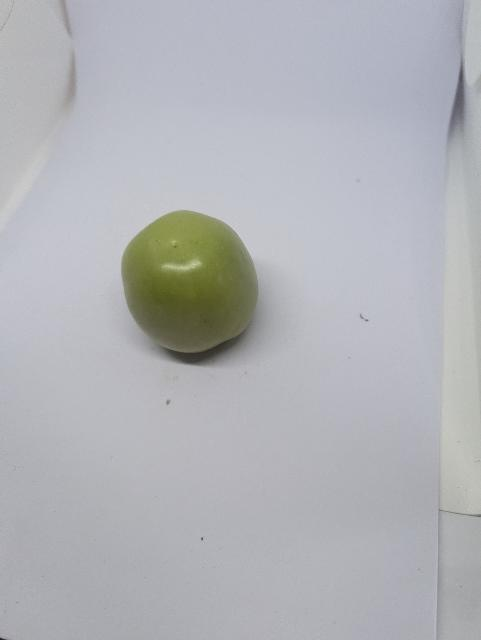green: (102, 204, 271, 369)
